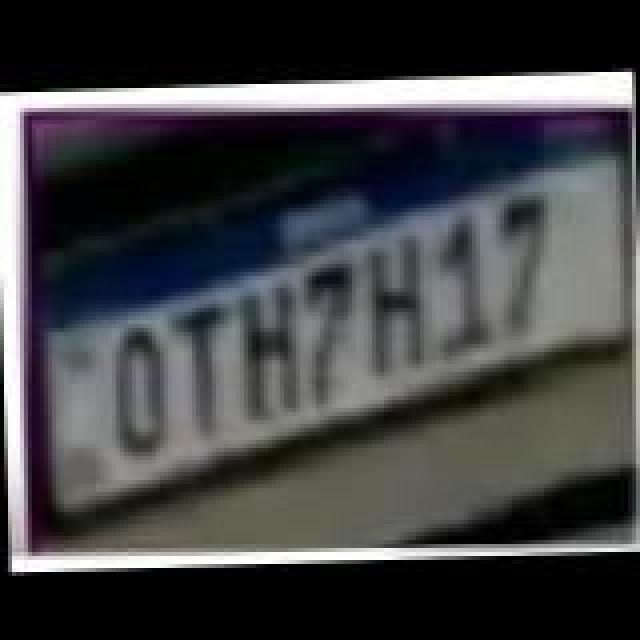1: (428, 210, 496, 354)
7: (300, 258, 364, 406), (496, 194, 556, 334)
H: (236, 278, 304, 422), (362, 234, 430, 378)
O: (106, 320, 170, 460)
T: (168, 298, 236, 438)
